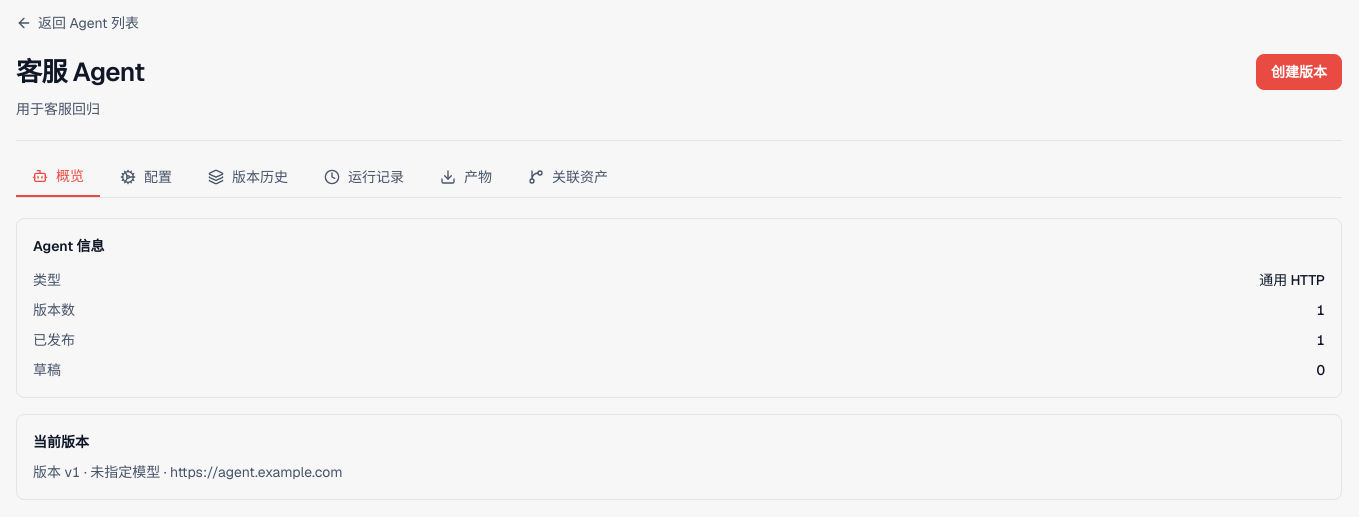
Test case: AgentDetail › shows published versions as locked without edit actions
Click the button "版本历史": (248, 177) [192,157,304,197]
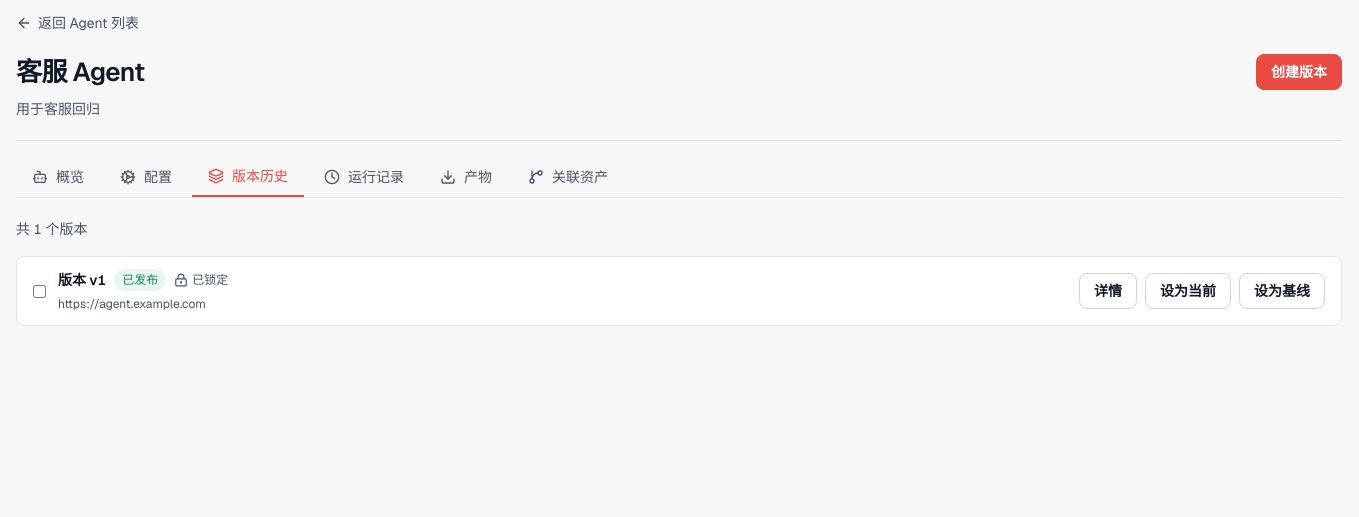
Now the text "已锁定" is shown, box [174,271,228,289]
